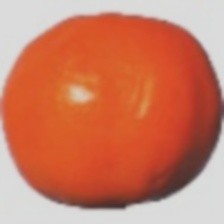tangerine: (21, 15, 159, 184)
